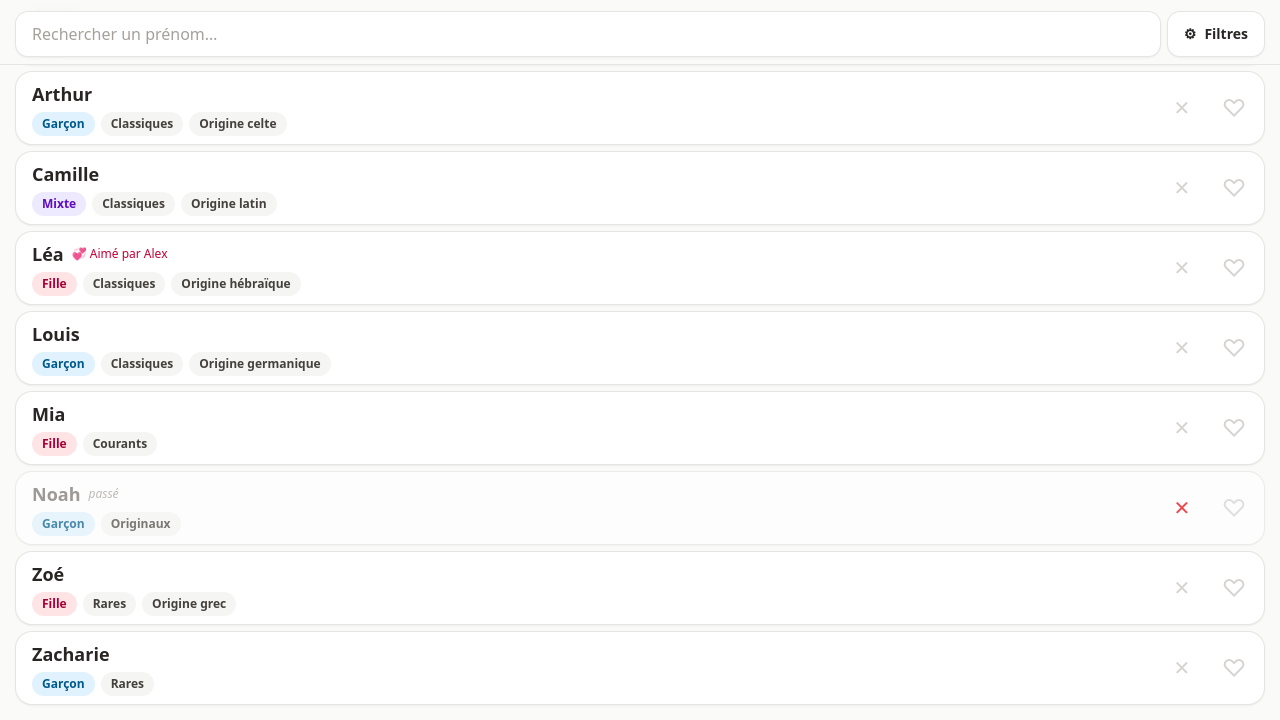
Scenario: ListPage › stores a like when the heart is pressed and turns it into a match
(page scrolled)
Click the button named "Aimer Zoé". click: (1234, 588)
box: [1212,566,1256,610]
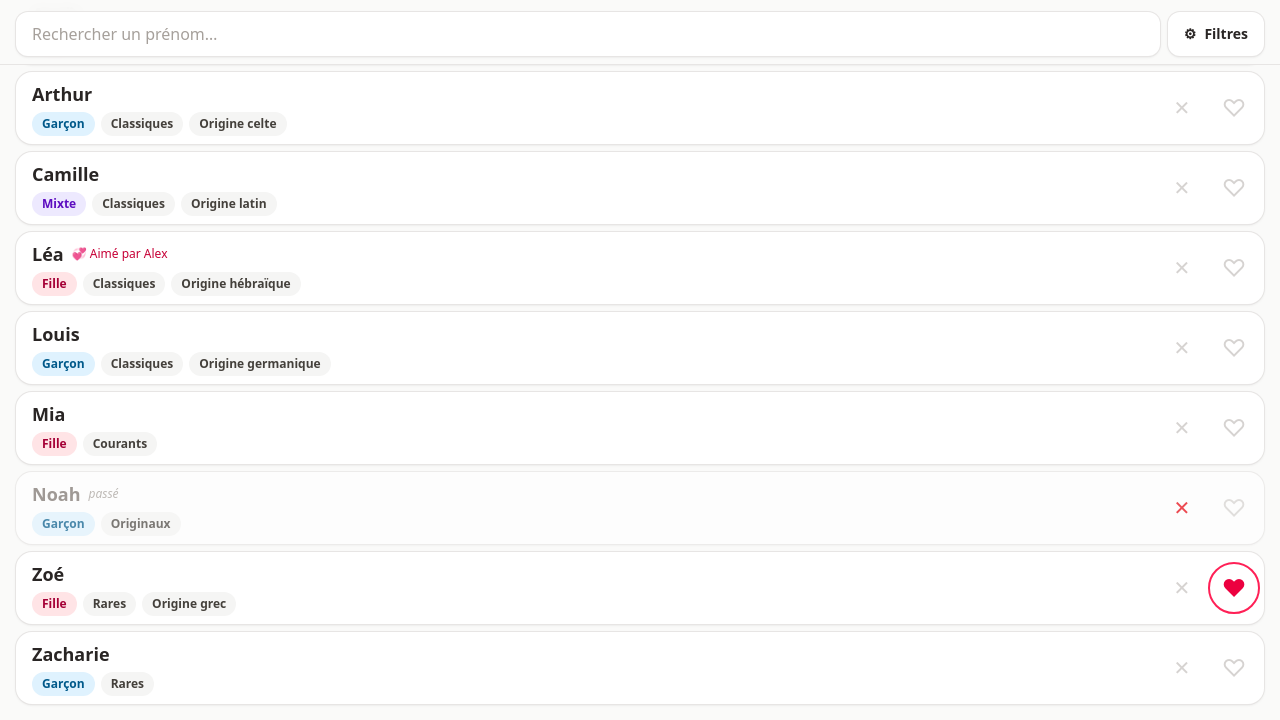
expect the button named "Retirer Zoé de mes favoris" is pressed: met, box [1212,566,1256,610]
# Liking a name the partner already likes yields a match.
Click the button named "Aimer Léa". click: (1234, 268)
box: [1212,246,1256,290]
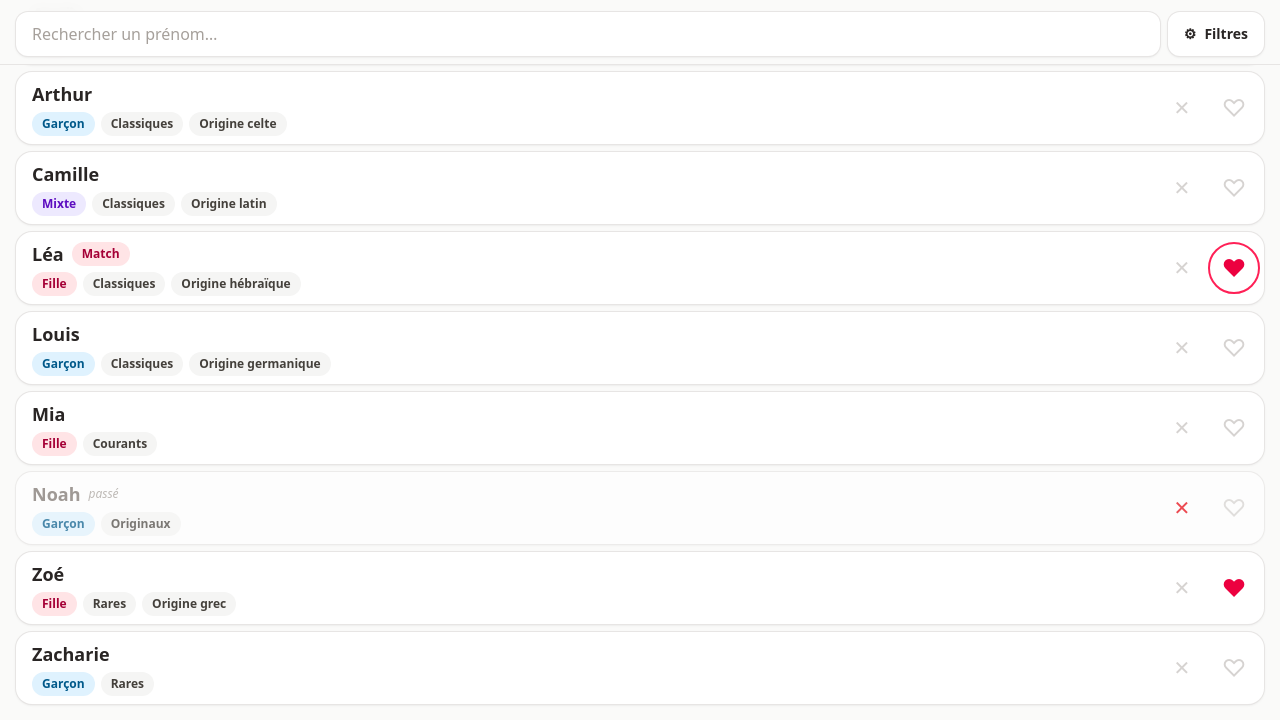
expect the text "Match" is shown: met, box [72,242,130,266]
expect the text "Aimé par Alex" is gone: met
# A skipped name can still be liked.
Click the button named "Aimer Noah". click: (1234, 508)
box: [1212,486,1256,530]
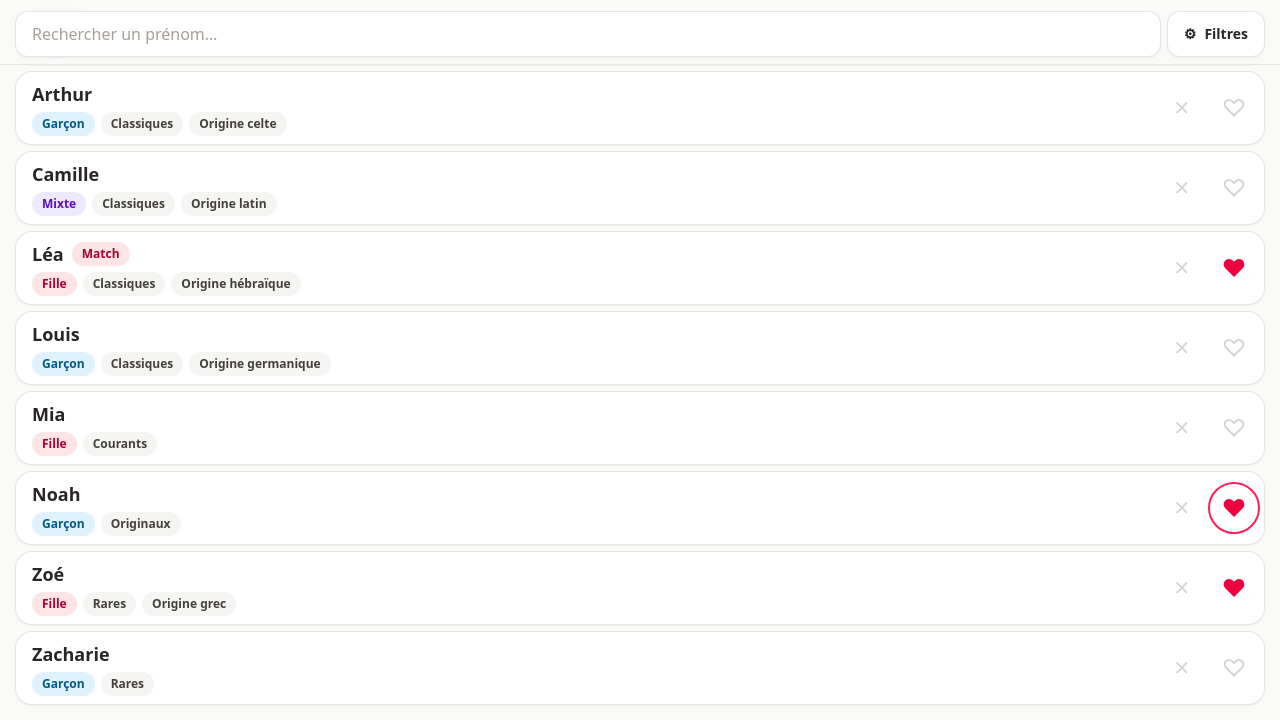
expect the button named "Retirer Noah de mes favoris" is shown: met, box [1212,486,1256,530]
expect the text "passé" is gone: met
